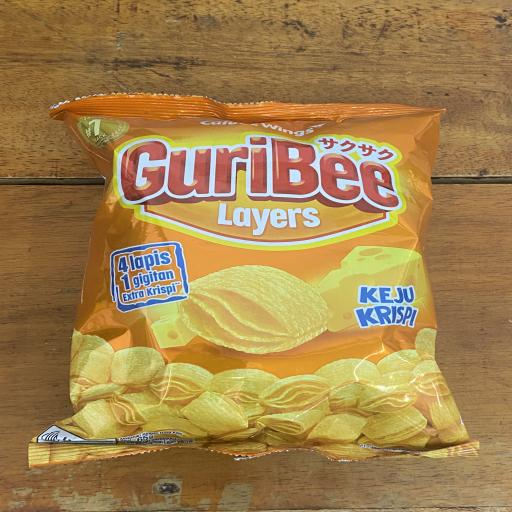Guribee Layers Keju Cripsy: (54, 101, 472, 457)
